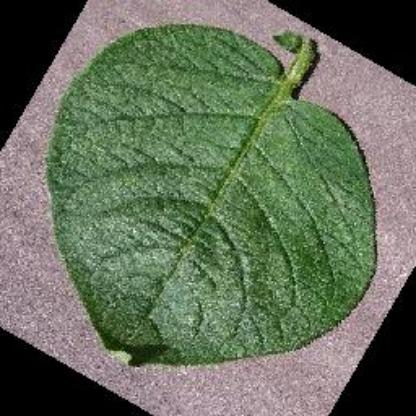Healthy-plant: (37, 23, 389, 372)
